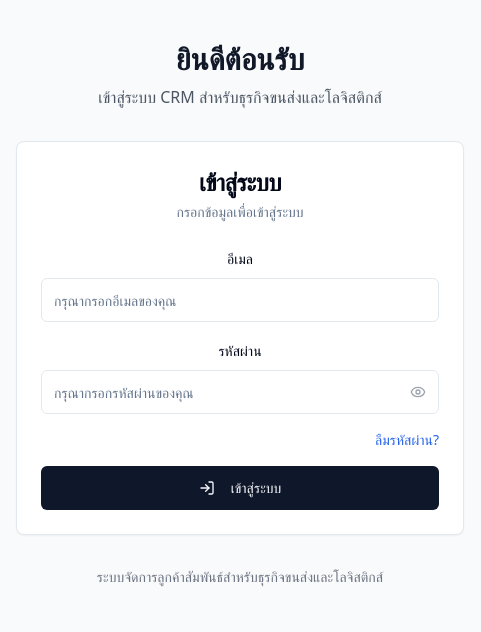
Test: LoginPage › shows validation errors for empty fields
This screenshot has width=481, height=632.
Step 1. Click the button "เข้าสู่ระบบ" → (240, 488), box [41,466,439,510]
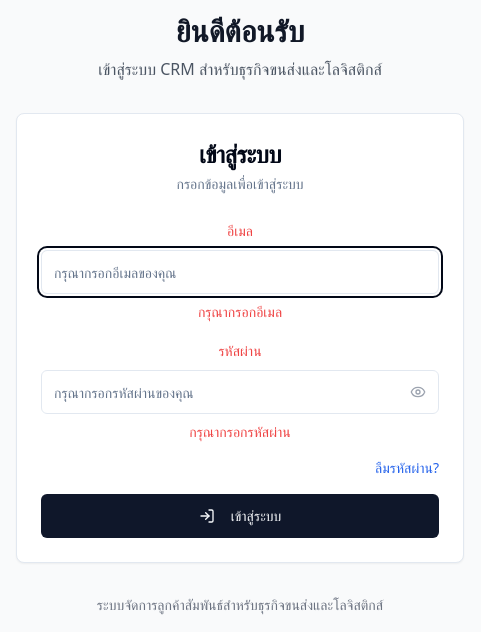
expect the text "กรุณากรอกอีเมล" is shown: met, box [198,302,282,321]
expect the text "กรุณากรอกรหัสผ่าน" is shown: met, box [189,422,291,441]
